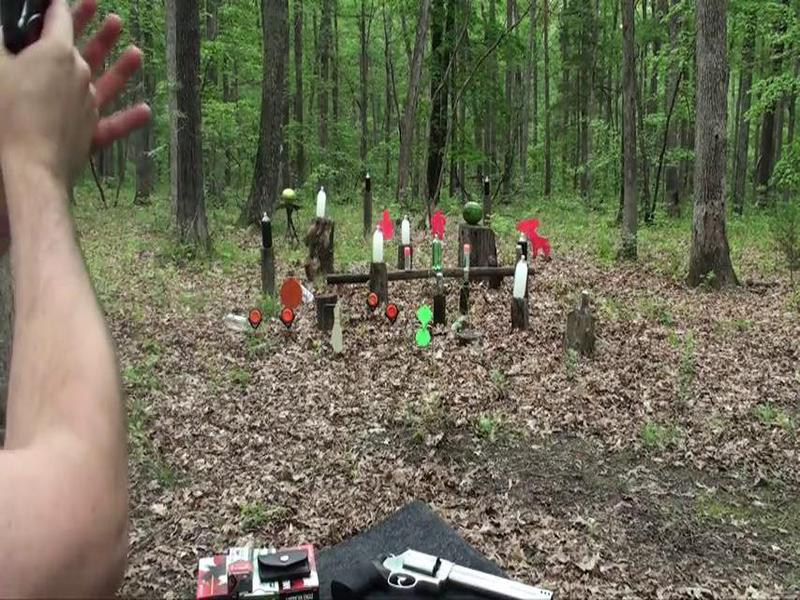Revolver: (325, 534, 551, 600)
